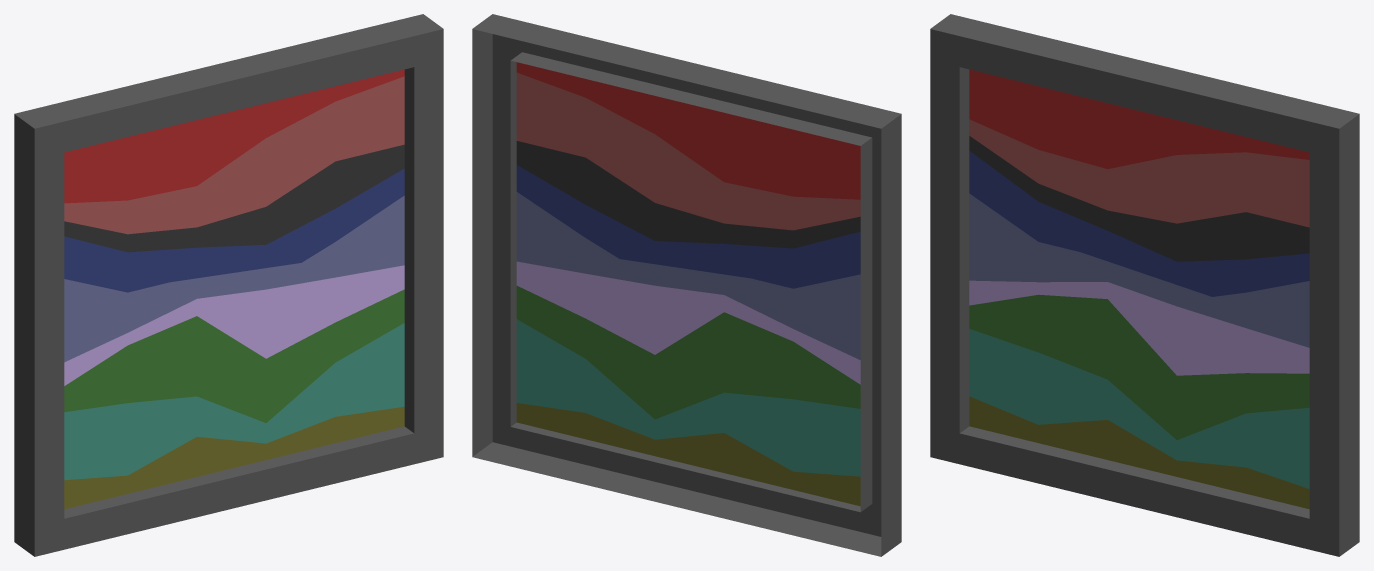
File: Painting.fbx
3 views of the same model, side by side, from view 1: azimuth 30°, elevation 25°; view 2: azimuth 150°, elevation 25°; view 3: azimuth 330°, elevation 25° (orthographic).
Parts seen in each view (by area): view 1: Painting; view 2: Painting; view 3: Painting.
Boxes of the visible parts, bbox=[...] form: Painting: bbox=[14, 14, 443, 556]; Painting: bbox=[472, 14, 901, 556]; Painting: bbox=[930, 14, 1359, 556].
Size of the model in its own units: 115 by 9.93 by 115.
